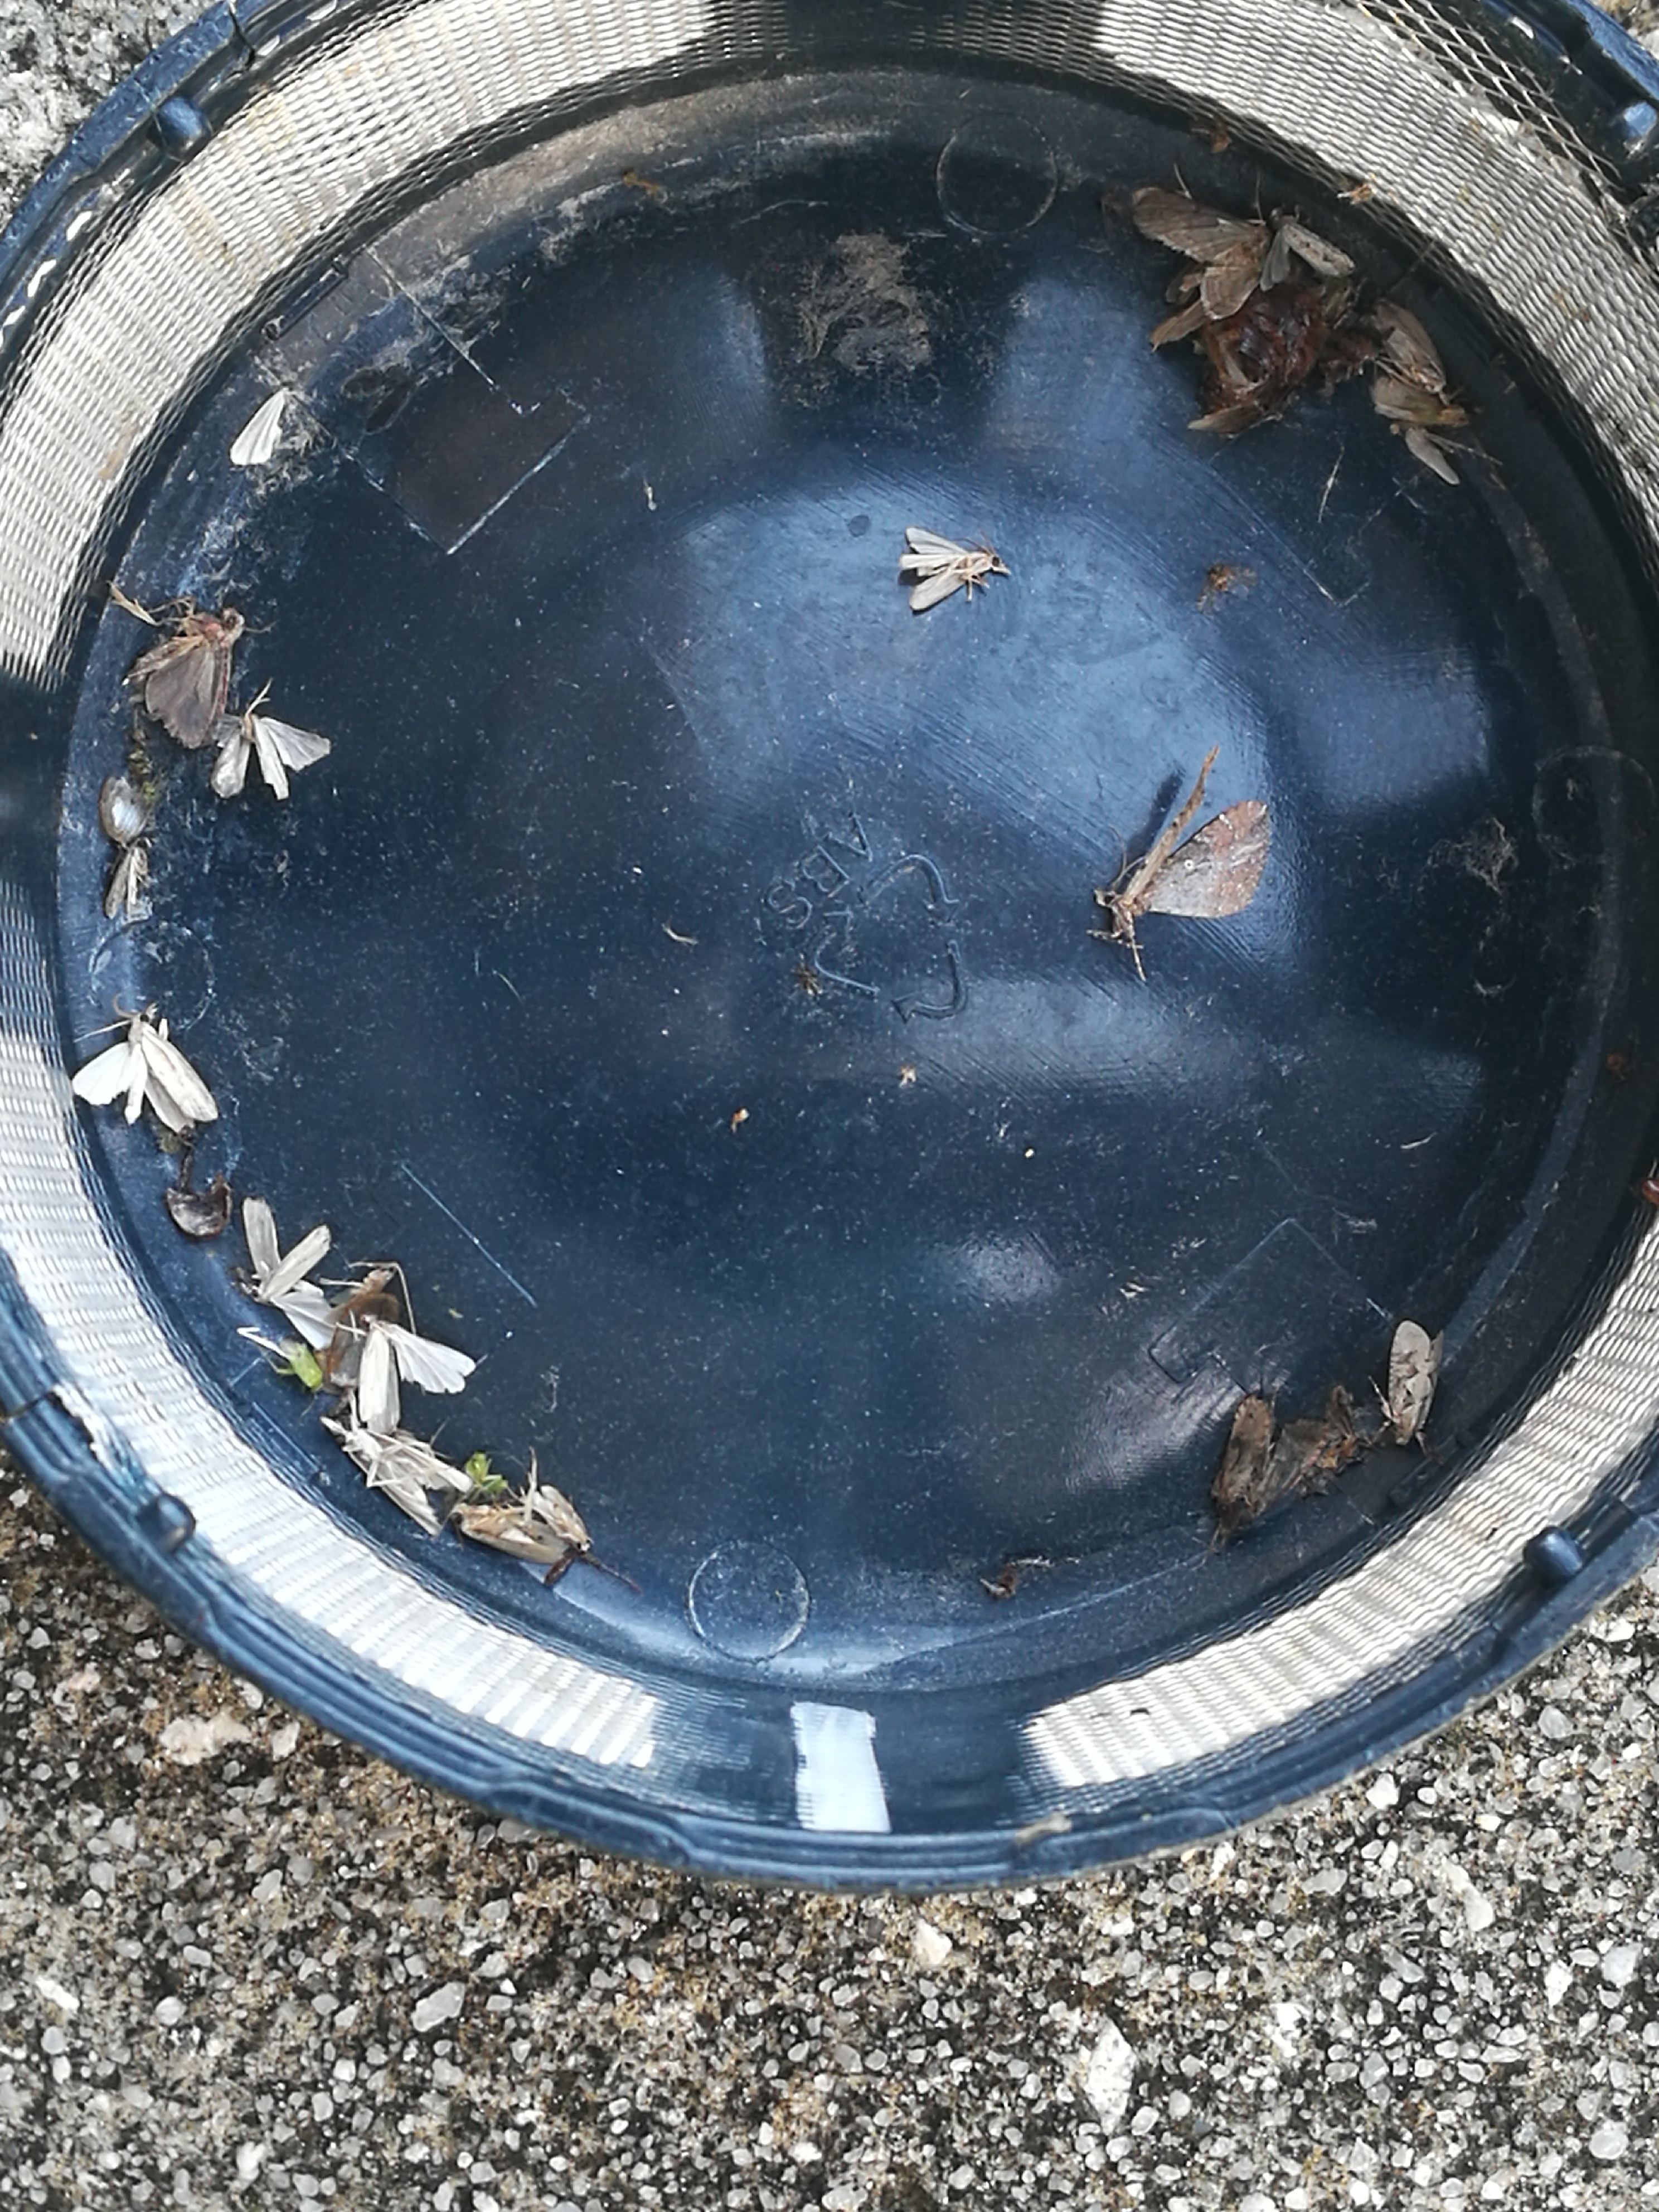beetle: (1152, 289, 1326, 432)
mosquito: (532, 1486, 591, 1550), (105, 836, 148, 918), (331, 1261, 399, 1308)
moth: (1093, 745, 1272, 916), (321, 1418, 469, 1534), (1134, 188, 1267, 317), (75, 1014, 218, 1132), (1211, 1397, 1330, 1534), (125, 610, 242, 747), (240, 1200, 335, 1350), (361, 1315, 476, 1433), (213, 714, 331, 798), (899, 528, 1011, 613), (1359, 300, 1448, 395), (1262, 206, 1356, 291), (1389, 1320, 1445, 1446), (453, 1501, 563, 1562), (1373, 376, 1469, 428)
